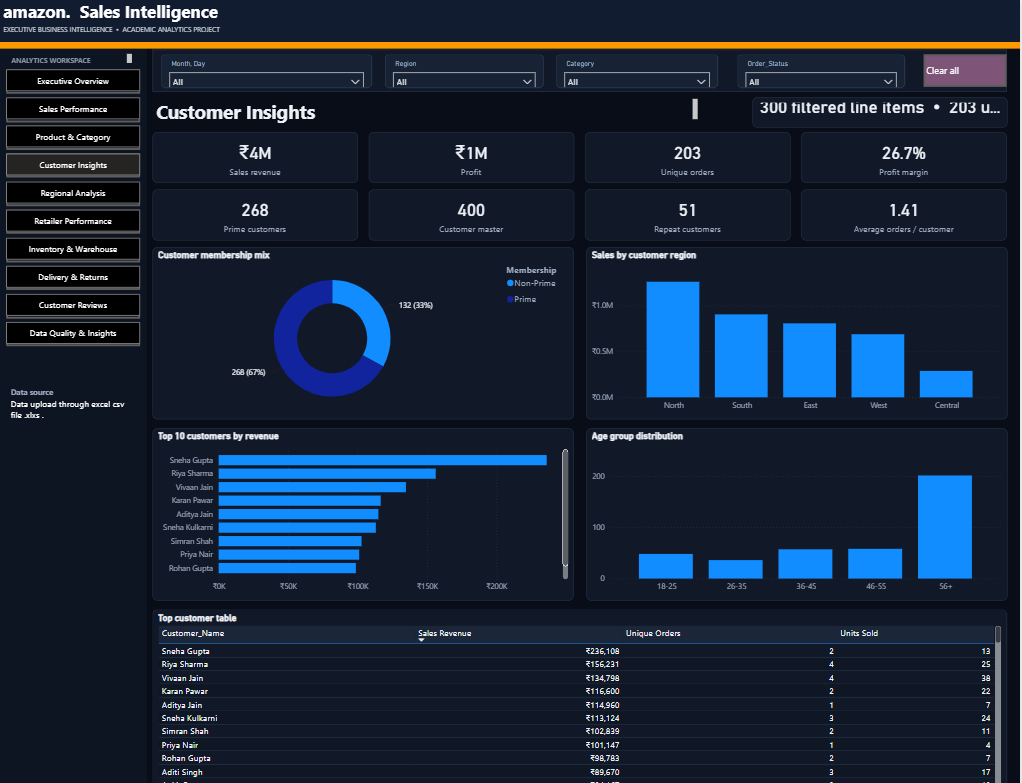

The page's visual inventory and layout, read from the dashboard file:
{"tool":"powerbi","page":{"name":"Customer Insights","canvas":[1600,1300],"ordinal":3},"visuals":[{"type":"textbox","box":[0,70,230,1230],"z":0},{"type":"textbox","box":[0,0,1600,70],"z":1000},{"type":"textbox","box":[0,70,1600,4],"z":2000},{"type":"textbox","box":[12,84,200,24],"z":3000},{"type":"actionButton","box":[10,114,210,38],"z":4000},{"type":"actionButton","box":[10,158,210,38],"z":5000},{"type":"actionButton","box":[10,202,210,38],"z":6000},{"type":"actionButton","box":[10,246,210,38],"z":7000},{"type":"actionButton","box":[10,290,210,38],"z":8000},{"type":"actionButton","box":[10,334,210,38],"z":9000},{"type":"actionButton","box":[10,378,210,38],"z":10000},{"type":"actionButton","box":[10,422,210,38],"z":11000},{"type":"actionButton","box":[10,466,210,38],"z":12000},{"type":"actionButton","box":[10,510,210,38],"z":13000},{"type":"textbox","box":[11.9,605,205.6,92.4],"z":14000},{"type":"textbox","box":[240,82,1340,66],"z":15000},{"type":"slicer","fields":{"Values":["SalesLines.Order_Date.Variation.Date Hierarchy.Month","SalesLines.Order_Date.Variation.Date Hierarchy.Day"]},"box":[252,90,330,52],"z":16000},{"type":"slicer","fields":{"Values":["SalesLines.Region"]},"box":[603.5,89.4,248.8,52.2],"z":17000},{"type":"slicer","fields":{"Values":["SalesLines.Category"]},"box":[873.2,89.4,253.3,52.2],"z":18000},{"type":"slicer","fields":{"Values":["SalesLines.Order_Status"]},"box":[1156.3,90.9,262.2,52.2],"z":19000},{"type":"actionButton","box":[1449.8,90.9,129.6,50.7],"z":20000},{"type":"textbox","box":[240,154,860,52],"z":21000},{"type":"card","fields":{"Values":["_Measures.Scope Text"]},"box":[1180,156,400,48],"z":22000},{"type":"card","fields":{"Values":["_Measures.Sales Revenue"]},"box":[240,212,322,80],"z":23000},{"type":"card","fields":{"Values":["_Measures.Profit"]},"box":[579,212,322,80],"z":24000},{"type":"card","fields":{"Values":["_Measures.Unique Orders"]},"box":[918,212,322,80],"z":25000},{"type":"card","fields":{"Values":["_Measures.Profit Margin"]},"box":[1257,212,322,80],"z":26000},{"type":"card","fields":{"Values":["_Measures.Prime Customers"]},"box":[240,302,322,80],"z":27000},{"type":"card","fields":{"Values":["_Measures.Customer Master"]},"box":[579,302,322,80],"z":28000},{"type":"card","fields":{"Values":["_Measures.Repeat Customers"]},"box":[918,302,322,80],"z":29000},{"type":"card","fields":{"Values":["_Measures.Avg Orders per Customer"]},"box":[1257,302,322,80],"z":30000},{"type":"donutChart","title":"Customer membership mix","fields":{"Category":["Customers.Membership"],"Y":["_Measures.Customer Master"]},"box":[240,392,661,270],"z":31000},{"type":"clusteredColumnChart","title":"Sales by customer region","fields":{"Category":["SalesLines.Region"],"Y":["_Measures.Sales Revenue"]},"box":[919,392,661,270],"z":32000},{"type":"clusteredBarChart","title":"Top 10 customers by revenue","fields":{"Category":["SalesLines.Customer_Name"],"Y":["_Measures.Top 10 Customers Sales"]},"box":[240,676,661,270],"z":33000},{"type":"clusteredColumnChart","title":"Age group distribution","fields":{"Category":["Customers.Age_Group"],"Y":["_Measures.Customer Master"]},"box":[919,676,661,270],"z":34000},{"type":"tableEx","title":"Top customer table","fields":{"Values":["SalesLines.Customer_Name","_Measures.Sales Revenue","_Measures.Unique Orders","_Measures.Units Sold"]},"box":[240,960,1340,330],"z":35000},{"type":"pageNavigator","box":[10,114,210,434],"z":36000}]}

Visuals, with their boxes on the page's 1600x1300 design canvas (x1, y1, x2, y2). These are canvas units, not pixel positions in the 1022x783 screenshot, which may show the page scaled, cropped or inside an application window:
textbox: bbox=[0, 70, 230, 1300]
textbox: bbox=[0, 0, 1600, 70]
textbox: bbox=[0, 70, 1600, 74]
textbox: bbox=[12, 84, 212, 108]
actionButton: bbox=[10, 114, 220, 152]
actionButton: bbox=[10, 158, 220, 196]
actionButton: bbox=[10, 202, 220, 240]
actionButton: bbox=[10, 246, 220, 284]
actionButton: bbox=[10, 290, 220, 328]
actionButton: bbox=[10, 334, 220, 372]
actionButton: bbox=[10, 378, 220, 416]
actionButton: bbox=[10, 422, 220, 460]
actionButton: bbox=[10, 466, 220, 504]
actionButton: bbox=[10, 510, 220, 548]
textbox: bbox=[12, 605, 218, 697]
textbox: bbox=[240, 82, 1580, 148]
slicer - SalesLines.Order_Date.Variation.Date Hierarchy.Month x SalesLines.Order_Date.Variation.Date Hierarchy.Day: bbox=[252, 90, 582, 142]
slicer - SalesLines.Region: bbox=[604, 89, 852, 142]
slicer - SalesLines.Category: bbox=[873, 89, 1126, 142]
slicer - SalesLines.Order_Status: bbox=[1156, 91, 1418, 143]
actionButton: bbox=[1450, 91, 1579, 142]
textbox: bbox=[240, 154, 1100, 206]
card - _Measures.Scope Text: bbox=[1180, 156, 1580, 204]
card - _Measures.Sales Revenue: bbox=[240, 212, 562, 292]
card - _Measures.Profit: bbox=[579, 212, 901, 292]
card - _Measures.Unique Orders: bbox=[918, 212, 1240, 292]
card - _Measures.Profit Margin: bbox=[1257, 212, 1579, 292]
card - _Measures.Prime Customers: bbox=[240, 302, 562, 382]
card - _Measures.Customer Master: bbox=[579, 302, 901, 382]
card - _Measures.Repeat Customers: bbox=[918, 302, 1240, 382]
card - _Measures.Avg Orders per Customer: bbox=[1257, 302, 1579, 382]
"Customer membership mix" donutChart: bbox=[240, 392, 901, 662]
"Sales by customer region" clusteredColumnChart: bbox=[919, 392, 1580, 662]
"Top 10 customers by revenue" clusteredBarChart: bbox=[240, 676, 901, 946]
"Age group distribution" clusteredColumnChart: bbox=[919, 676, 1580, 946]
"Top customer table" tableEx: bbox=[240, 960, 1580, 1290]
pageNavigator: bbox=[10, 114, 220, 548]
